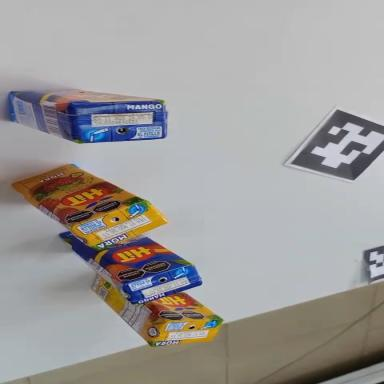HIT-MANGO: (48, 197, 208, 329), (8, 90, 167, 143)
HIT-MORA: (2, 144, 172, 274), (83, 274, 227, 359)
cara_F: (52, 197, 193, 310), (6, 144, 147, 251), (11, 86, 164, 105), (145, 289, 223, 323)
